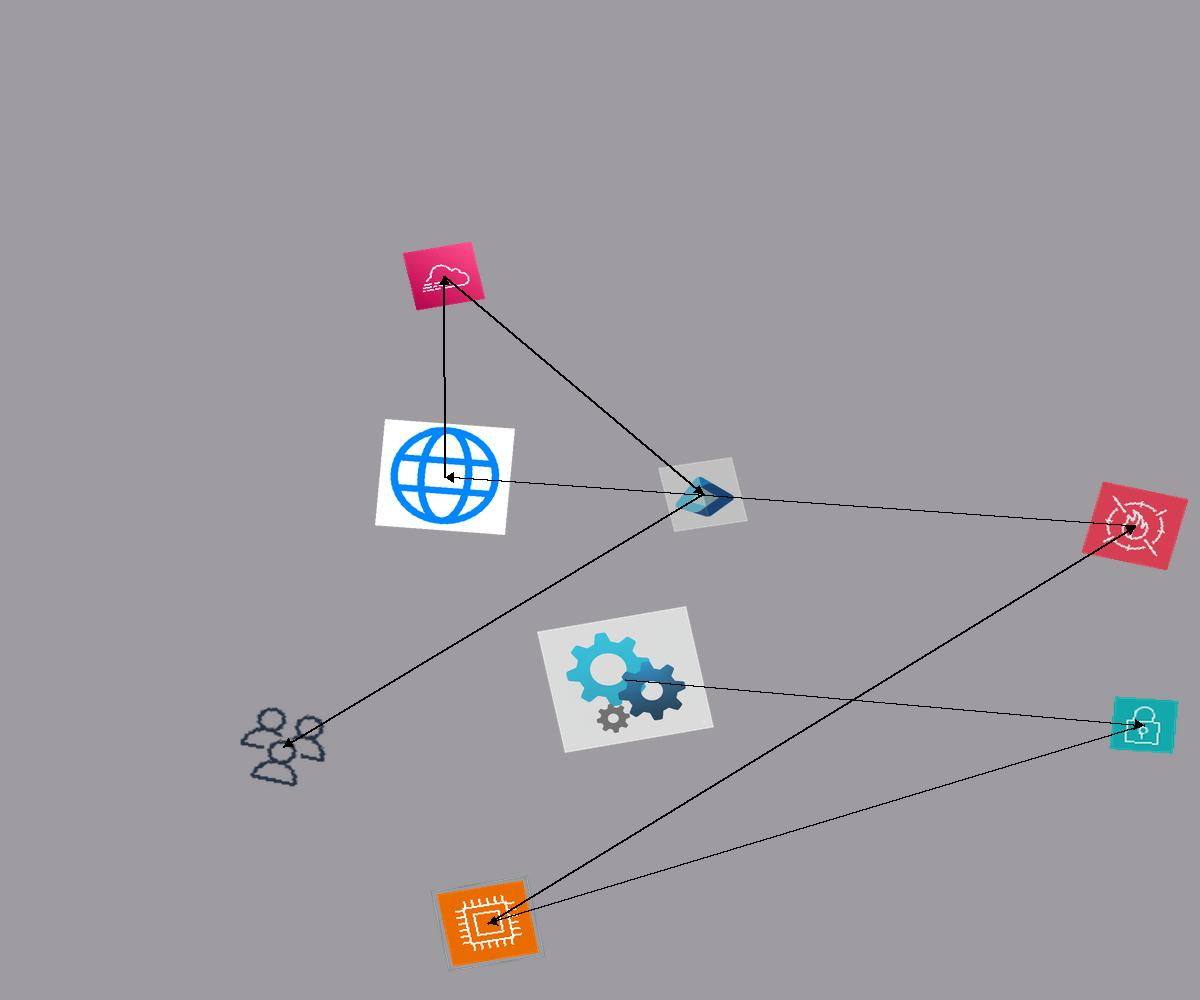AWS-Category_Compute: (430, 875, 546, 972)
AWS-CloudTrail: (402, 241, 486, 311)
AWS-Private-subnet: (1109, 696, 1179, 754)
AWS-Res_Users: (225, 698, 342, 796)
AWS-WAF: (1081, 481, 1189, 571)
Azure_api: (537, 606, 714, 753)
Azure_http: (375, 419, 515, 535)
Azure_microsoft_entra: (658, 457, 748, 532)
